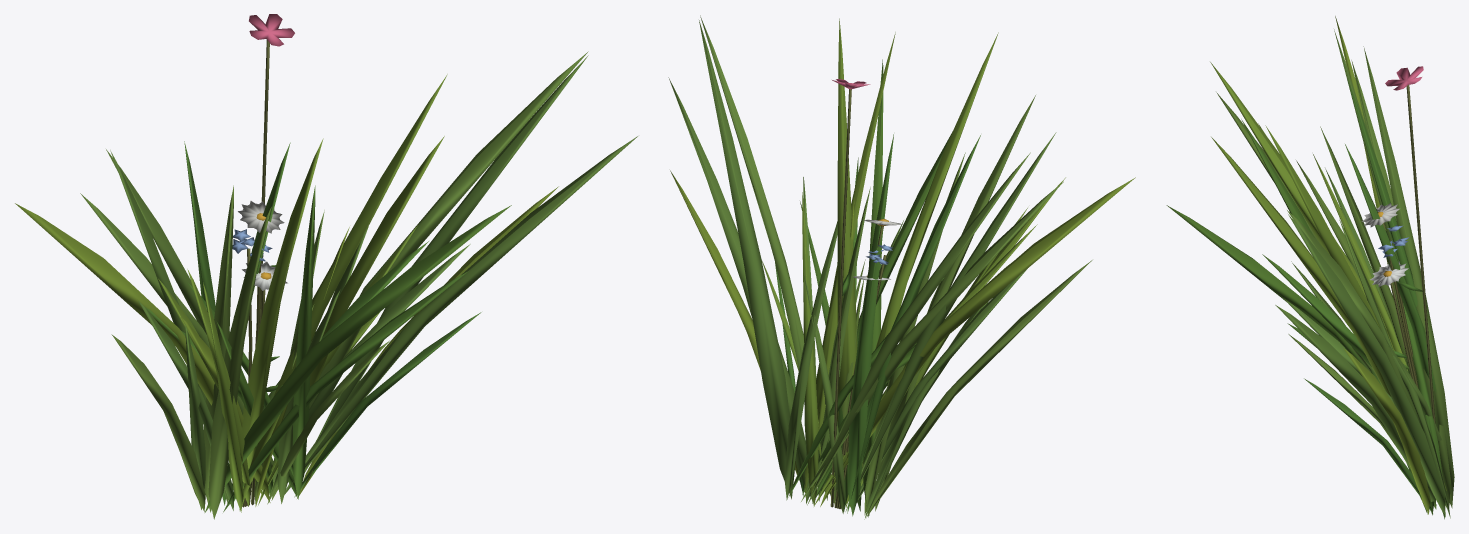
File: walltuft_mixed.glb
The picture shows the model from 3 angles, left to right: view 1: azimuth 30°, elevation 25°; view 2: azimuth 150°, elevation 25°; view 3: azimuth 270°, elevation 25°; orthographic projection. The views are drawn at different scales.
Visible parts, largest first — view 1: Sammel Pflanze, Sammel Putz; view 2: Sammel Pflanze, Sammel Putz; view 3: Sammel Pflanze, Sammel Putz.
Boxes of the visible parts, bbox=[...] form: Sammel Pflanze: bbox=[15, 14, 637, 519]; Sammel Putz: bbox=[242, 39, 269, 507]; Sammel Pflanze: bbox=[668, 15, 1135, 519]; Sammel Putz: bbox=[830, 89, 886, 508]; Sammel Pflanze: bbox=[1166, 16, 1454, 519]; Sammel Putz: bbox=[1383, 85, 1435, 423].
Size of the model in its own units: 0.6391 by 0.5161 by 0.316.
